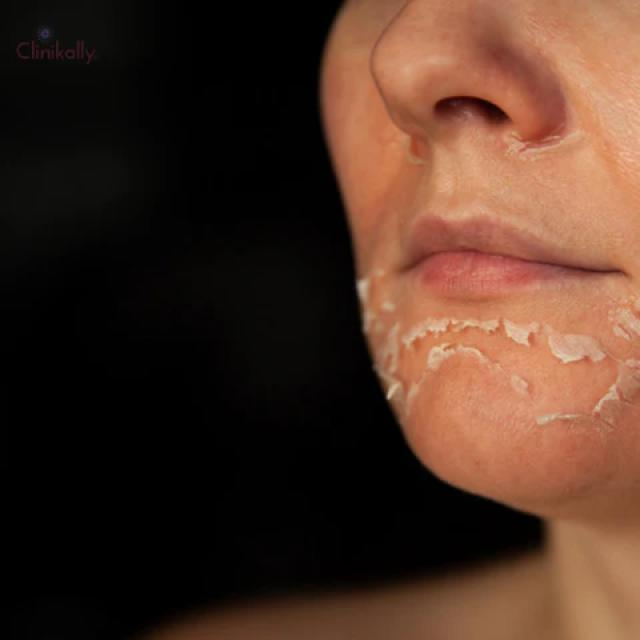flakiness: (350, 280, 640, 450), (383, 132, 587, 164)
